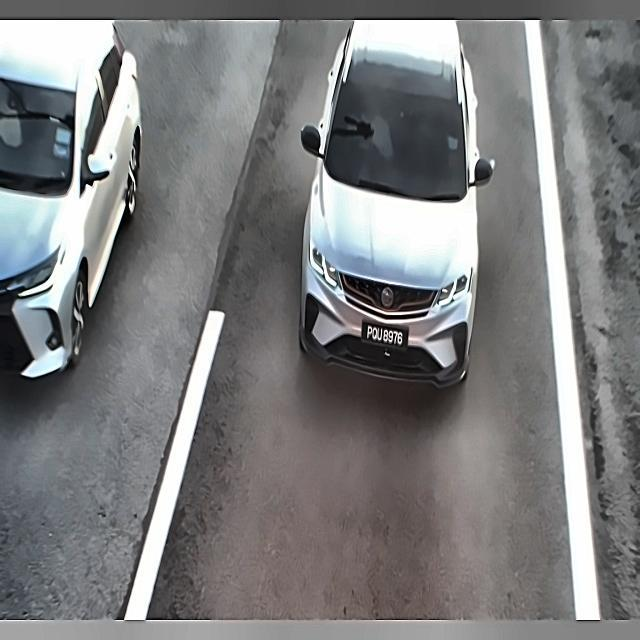car: (359, 311, 411, 363)
